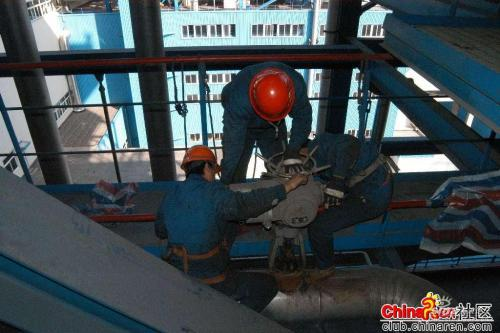helmet: (246, 67, 300, 122), (178, 141, 220, 183)
